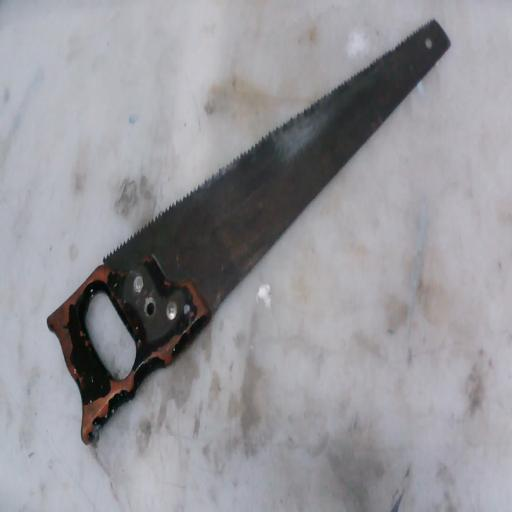gergaji_kayu: (34, 1, 478, 463)
